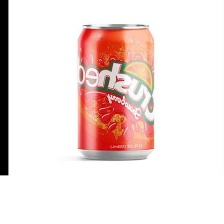can: (73, 19, 159, 165)
